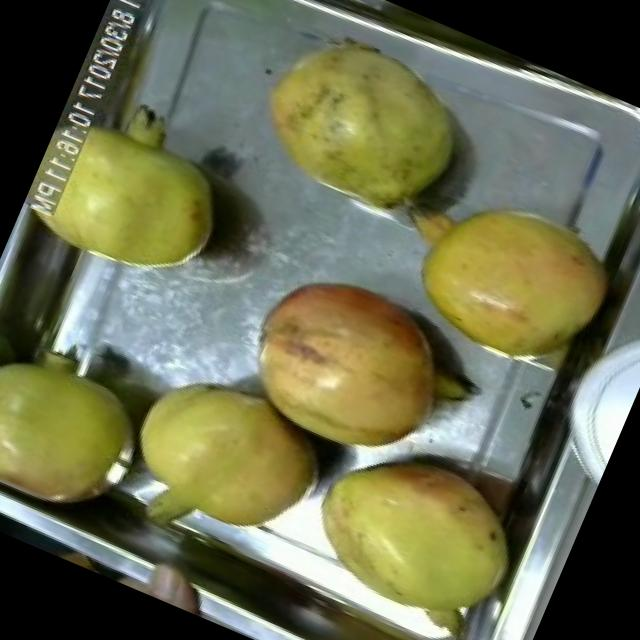fruit: (211, 237, 509, 500), (217, 0, 497, 246), (7, 56, 266, 316), (372, 156, 638, 402), (280, 413, 546, 640), (98, 344, 350, 573), (0, 302, 175, 546)
